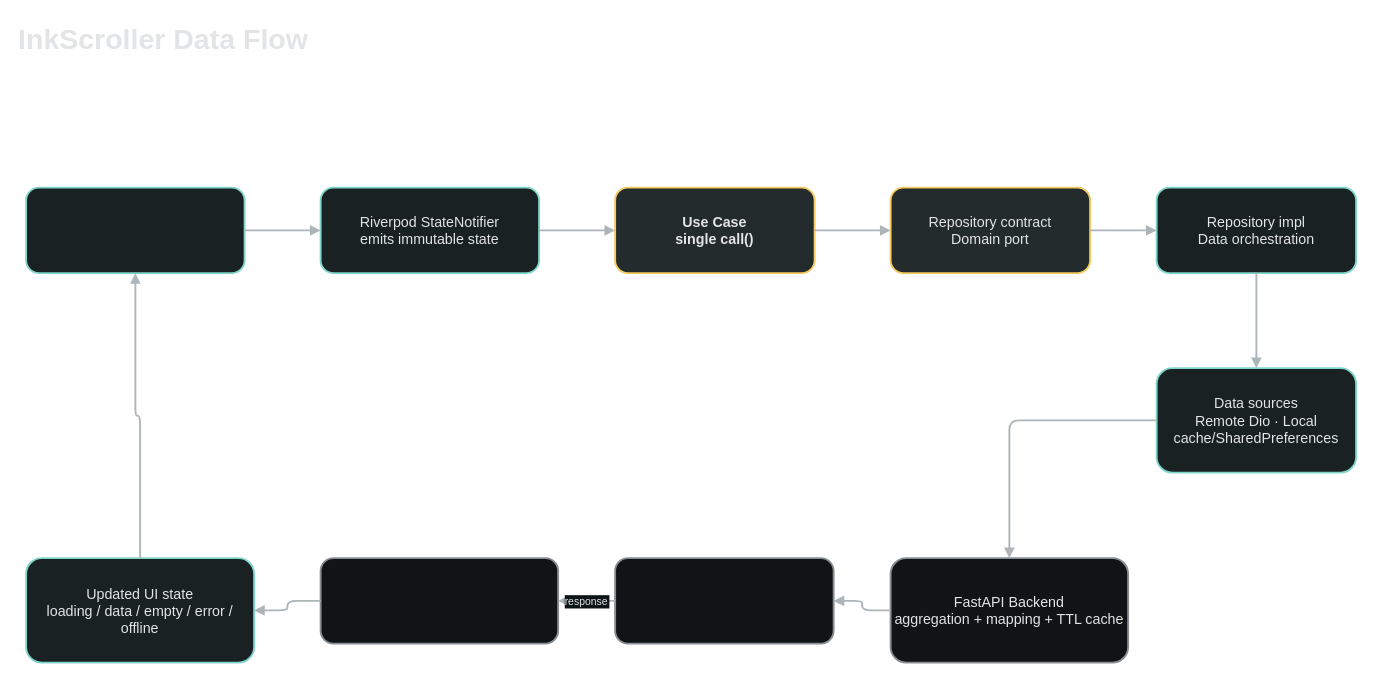
This 1373x679 diagram has some shape labels left out. Each missing label, with the centre of its shape:
"DTO models → mappers → domain entities" goes at (x=439, y=600).
"UI Screen Home / Explore / Library / Detail / Reader" goes at (x=135, y=230).
"Upstream sources MangaDex · Jikan" goes at (x=724, y=600).
